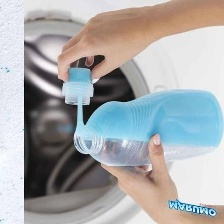cleaning_solution: (69, 85, 224, 170)
